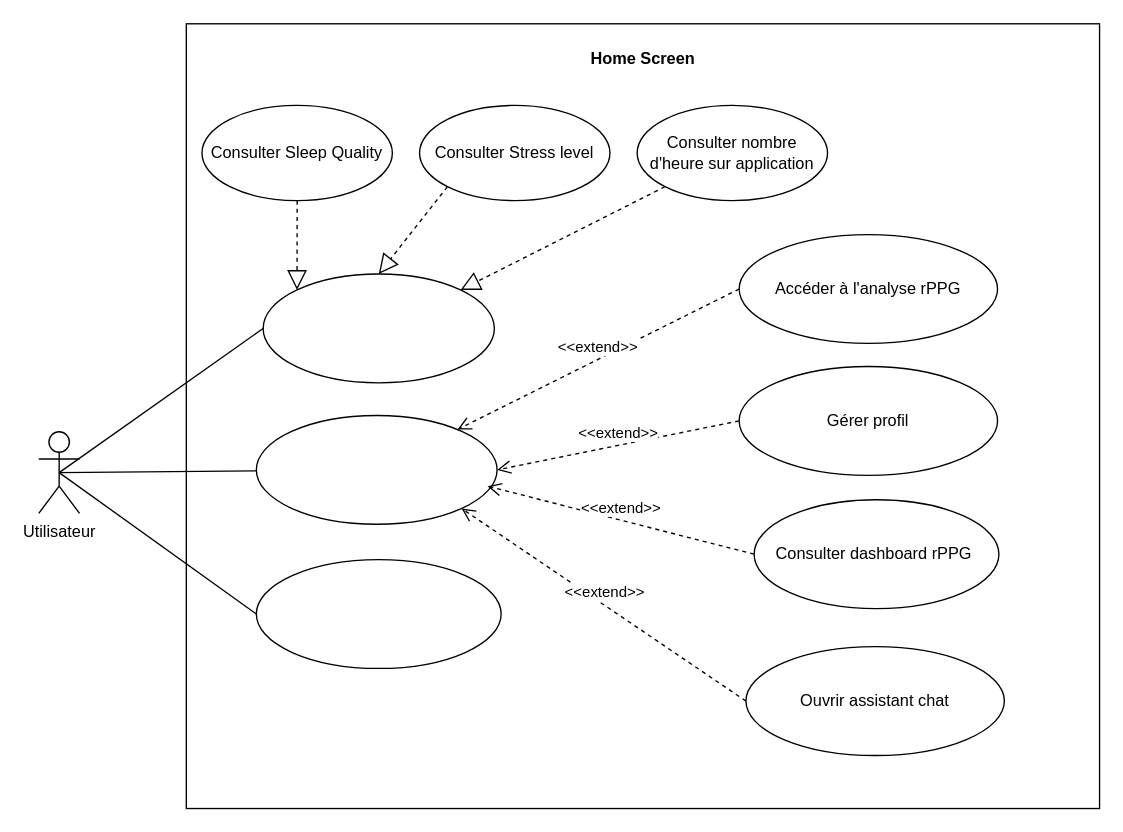
Image size: 1123x832. Some labels were removed from this diagram. Here are the shapes that lost their labels. From the top down, the centre of each, then its label:
point (378, 328): Consulter les dashbords
point (376, 469): Naviguer vers les modules
point (378, 613): Accéder aux raccourcis
